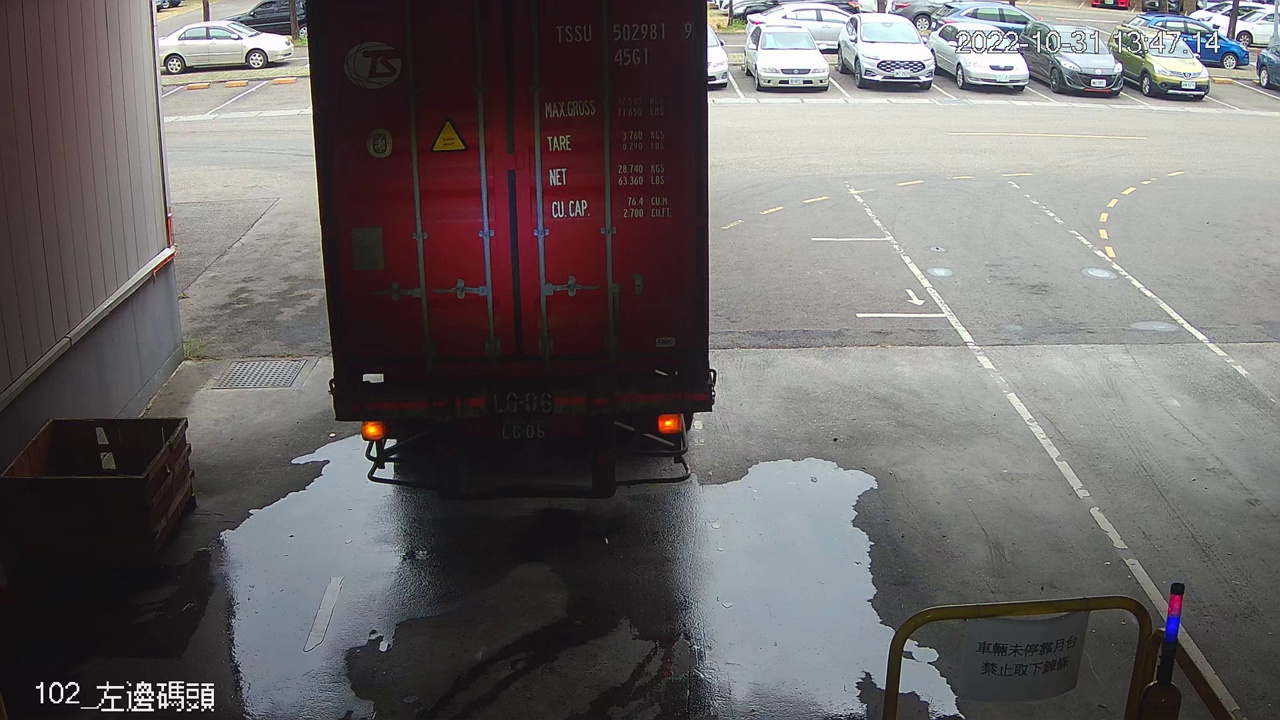container: (548, 15, 696, 75)
